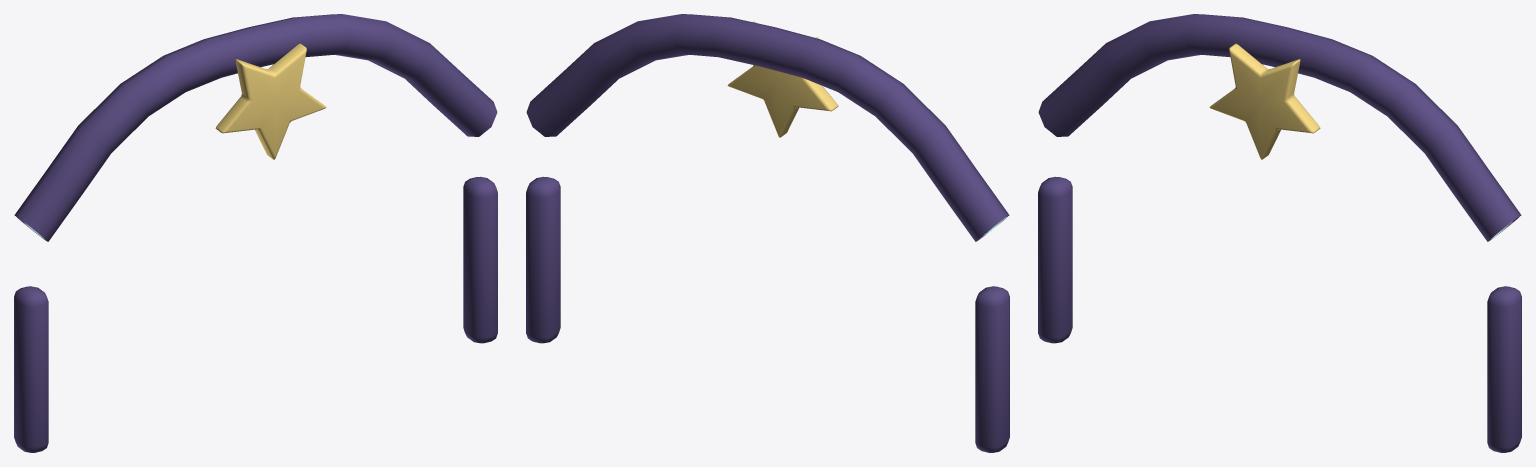
The model's file is slide_finish_arch.glb.
The picture shows the model from 3 angles, left to right: view 1: azimuth 30°, elevation 25°; view 2: azimuth 150°, elevation 25°; view 3: azimuth 330°, elevation 25°; orthographic projection.
Visible parts, largest first — view 1: ArchInk, FinishStar, PostInk_-1.0, PostInk_1.0; view 2: ArchInk, PostInk_-1.0, PostInk_1.0, FinishStar; view 3: ArchInk, FinishStar, PostInk_1.0, PostInk_-1.0.
Boxes of the visible parts, <box> form: ArchInk: <box>14,14,497,241</box>; FinishStar: <box>215,43,326,159</box>; PostInk_-1.0: <box>14,286,48,452</box>; PostInk_1.0: <box>463,176,497,343</box>; ArchInk: <box>526,14,1009,241</box>; PostInk_-1.0: <box>975,286,1009,452</box>; PostInk_1.0: <box>526,176,560,343</box>; FinishStar: <box>727,21,838,137</box>; ArchInk: <box>1038,14,1521,241</box>; FinishStar: <box>1209,43,1320,159</box>; PostInk_1.0: <box>1487,286,1521,452</box>; PostInk_-1.0: <box>1038,176,1072,343</box>.
Size of the model in its own units: 10.58 by 7.82 by 1.17.
